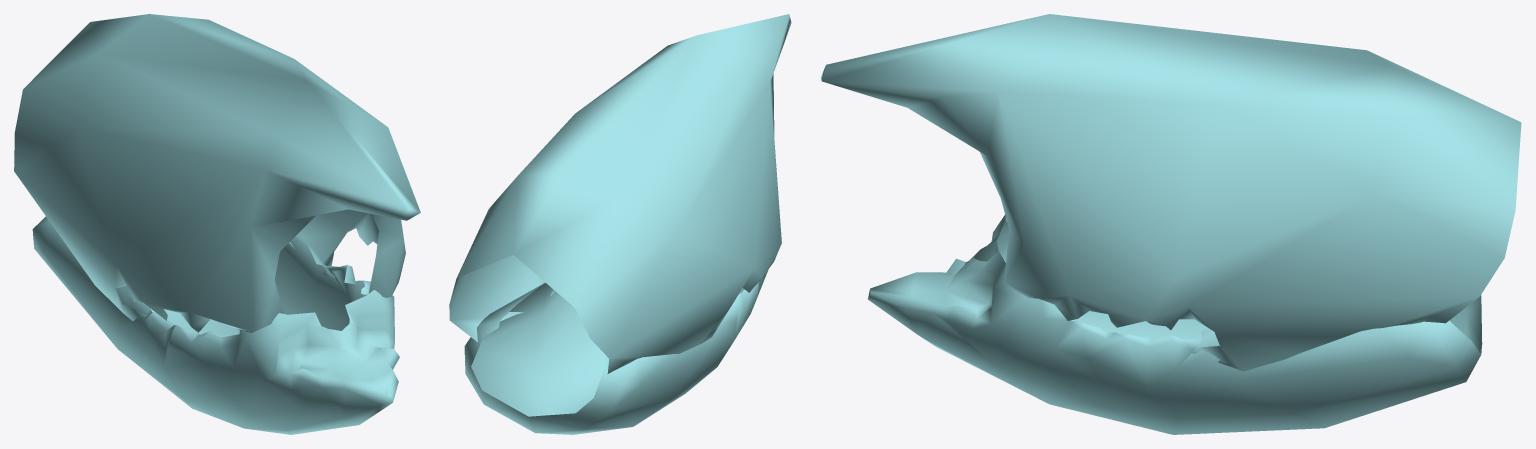
Rendered from Shrimp_Body_Cherry_LOD2.fbx.
3 renders of one model, left to right at view 1: azimuth 30°, elevation 25°; view 2: azimuth 150°, elevation 25°; view 3: azimuth 270°, elevation 25°, orthographic. The views are drawn at different scales.
Visible parts, largest first — view 1: Ch.back_low_LOD2, Ch.stomach_low_LOD2; view 2: Ch.back_low_LOD2, Ch.stomach_low_LOD2; view 3: Ch.back_low_LOD2, Ch.stomach_low_LOD2.
Boxes of the visible parts, left/top/right/bottom form: Ch.back_low_LOD2: left=14, top=14, right=420, bottom=332; Ch.stomach_low_LOD2: left=32, top=216, right=399, bottom=434; Ch.back_low_LOD2: left=449, top=14, right=791, bottom=373; Ch.stomach_low_LOD2: left=464, top=270, right=768, bottom=434; Ch.back_low_LOD2: left=820, top=14, right=1521, bottom=371; Ch.stomach_low_LOD2: left=867, top=214, right=1482, bottom=434.
Bounding box in the file's own units: 38.88 × 55.12 × 85.03.
